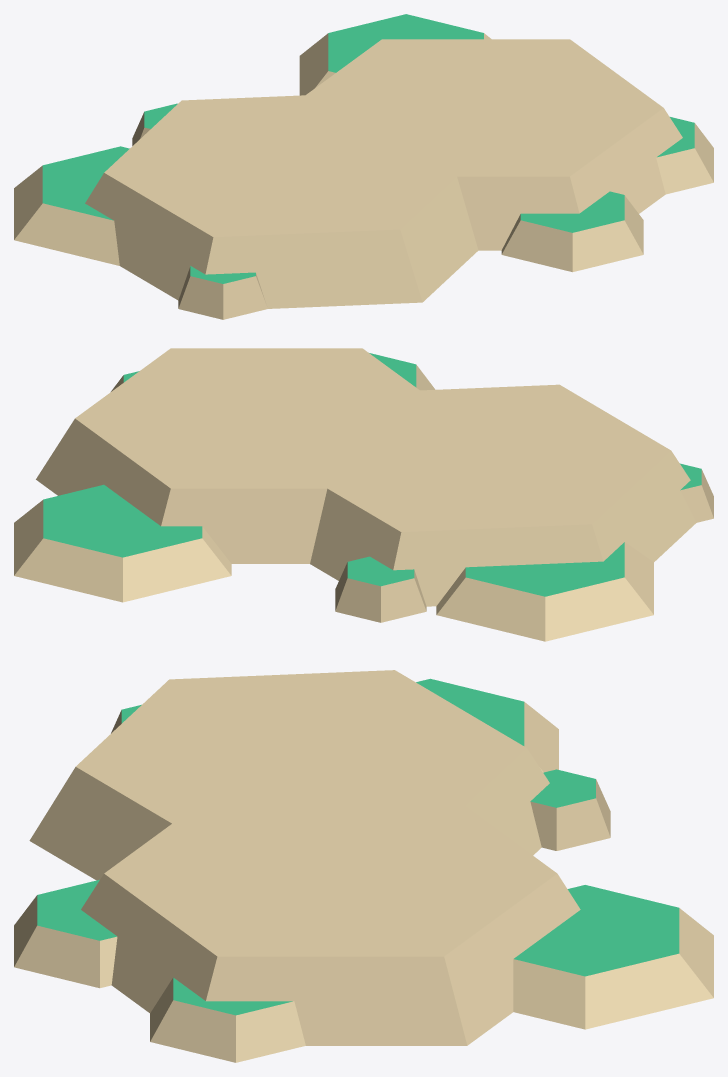
The model's file is rockFlatGrass.fbx.
3 views of the same model, one above another, from view 1: azimuth 30°, elevation 25°; view 2: azimuth 150°, elevation 25°; view 3: azimuth 270°, elevation 25° (orthographic). The views are drawn at different scales.
Visible parts, largest first — view 1: rockFlatGrass; view 2: rockFlatGrass; view 3: rockFlatGrass.
Boxes of the visible parts, x1,y1,x2,y2 form: rockFlatGrass: (14, 14, 713, 319); rockFlatGrass: (14, 348, 713, 641); rockFlatGrass: (14, 670, 713, 1062).
Bounding box in the file's own units: 71.46 × 6.6 × 57.91.
